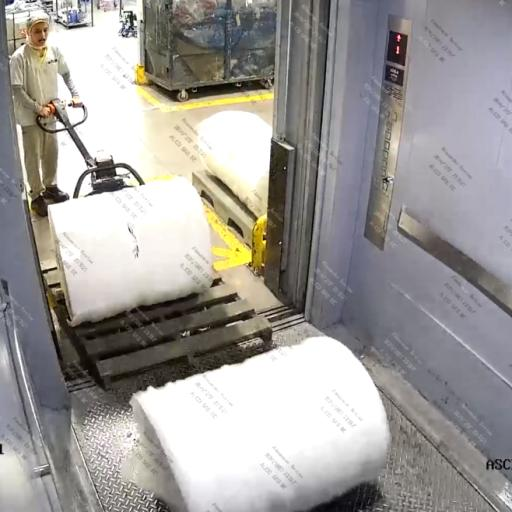rollos caidos: (68, 292, 468, 512)
